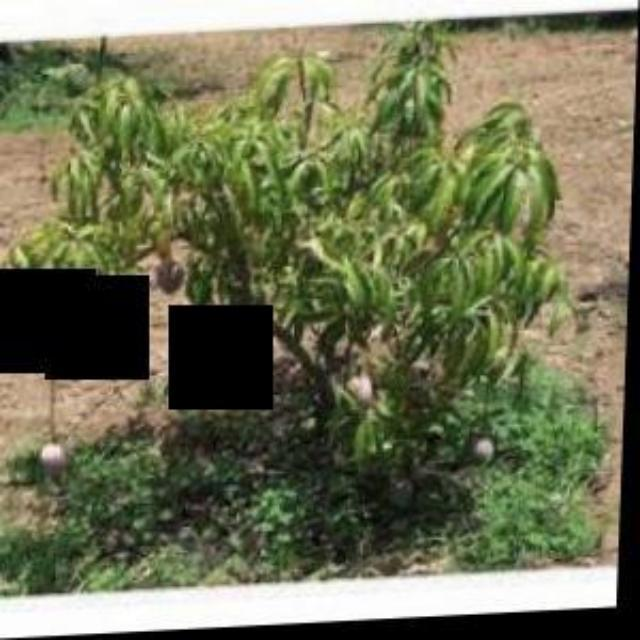tree: (2, 26, 572, 514)
